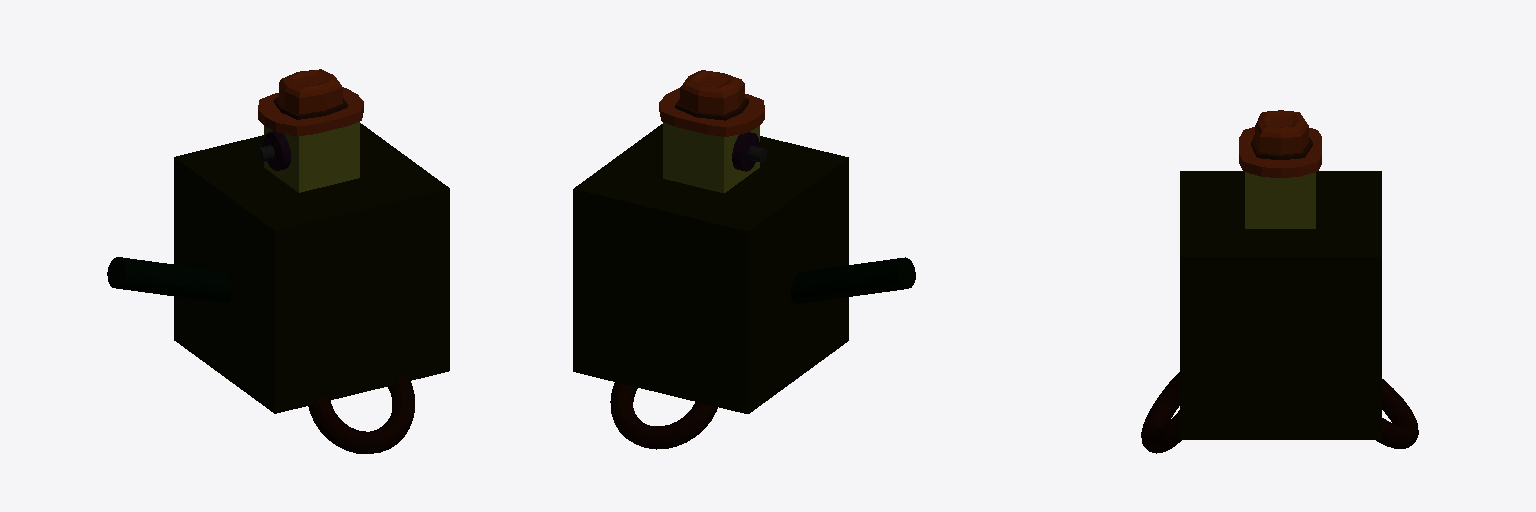
File: player02.obj
3 views of the same model, side by side, from view 1: azimuth 30°, elevation 25°; view 2: azimuth 150°, elevation 25°; view 3: azimuth 270°, elevation 25° (orthographic).
Parts seen in each view (by area): view 1: chasis_Cube.001, Hat_Plane, Cube.001_Cube.002, Cylinder, Torus.001, Cylinder.001; view 2: chasis_Cube.001, Hat_Plane, Cube.001_Cube.002, Cylinder, Torus.002_Torus.003, Cylinder.001; view 3: chasis_Cube.001, Hat_Plane, Cube.001_Cube.002, Torus.001, Torus.002_Torus.003.
Boxes of the visible parts, box(x1,y1,x2,y2) form: chasis_Cube.001: box(174, 123, 449, 413); Hat_Plane: box(258, 69, 363, 135); Cube.001_Cube.002: box(264, 122, 359, 192); Cylinder: box(107, 257, 231, 303); Torus.001: box(308, 377, 414, 453); Cylinder.001: box(256, 131, 290, 170); chasis_Cube.001: box(573, 124, 848, 413); Hat_Plane: box(659, 70, 764, 136); Cube.001_Cube.002: box(663, 122, 759, 192); Cylinder: box(791, 257, 915, 303); Torus.002_Torus.003: box(610, 382, 717, 449); Cylinder.001: box(732, 132, 766, 171); chasis_Cube.001: box(1180, 171, 1381, 439); Hat_Plane: box(1239, 110, 1321, 177); Cube.001_Cube.002: box(1245, 172, 1315, 228); Torus.001: box(1141, 372, 1181, 453); Torus.002_Torus.003: box(1376, 379, 1418, 448).
Size of the model in its own units: 3.29 by 3.57 by 2.75.